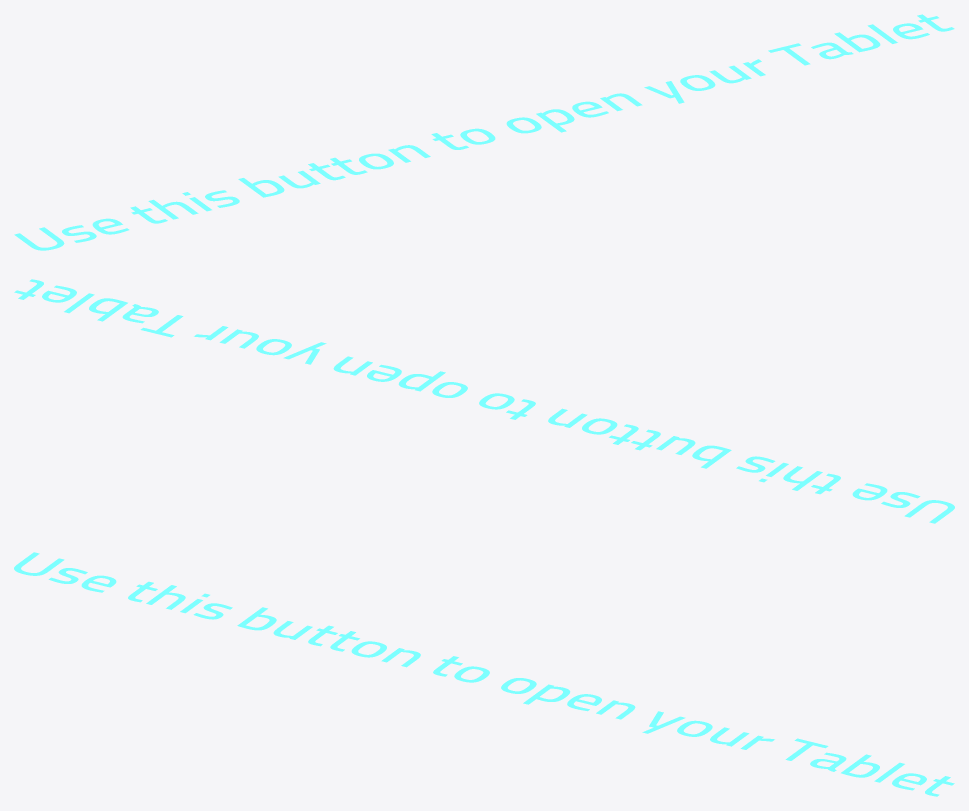
File: FTUE-open-tablet--2.fbx
3 renders of one model, top to bottom at view 1: azimuth 30°, elevation 25°; view 2: azimuth 150°, elevation 25°; view 3: azimuth 330°, elevation 25°, orthographic.
Parts seen in each view (by area): view 1: Text.001; view 2: Text.001; view 3: Text.001.
Boxes of the visible parts, <box> form: Text.001: <box>14,14,954,250</box>; Text.001: <box>14,279,954,523</box>; Text.001: <box>14,552,954,796</box>.
Size of the model in its own units: 544 by 5.55e-06 by 34.06.
